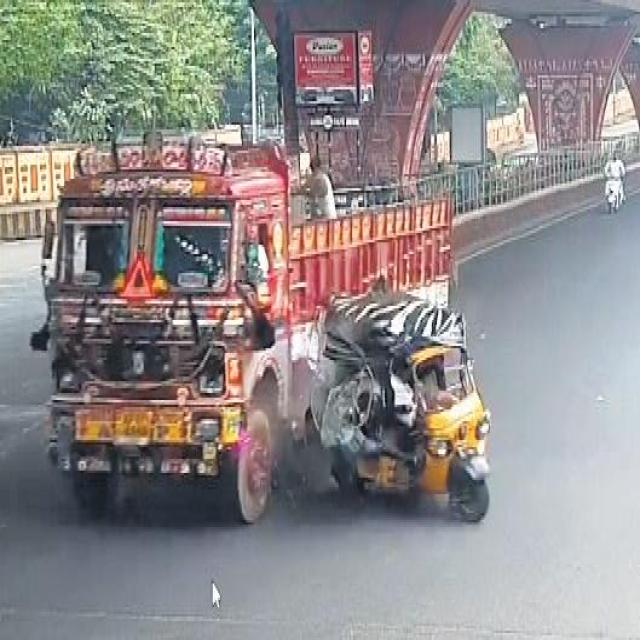accident: (311, 292, 490, 521)
truck: (38, 136, 451, 521)
